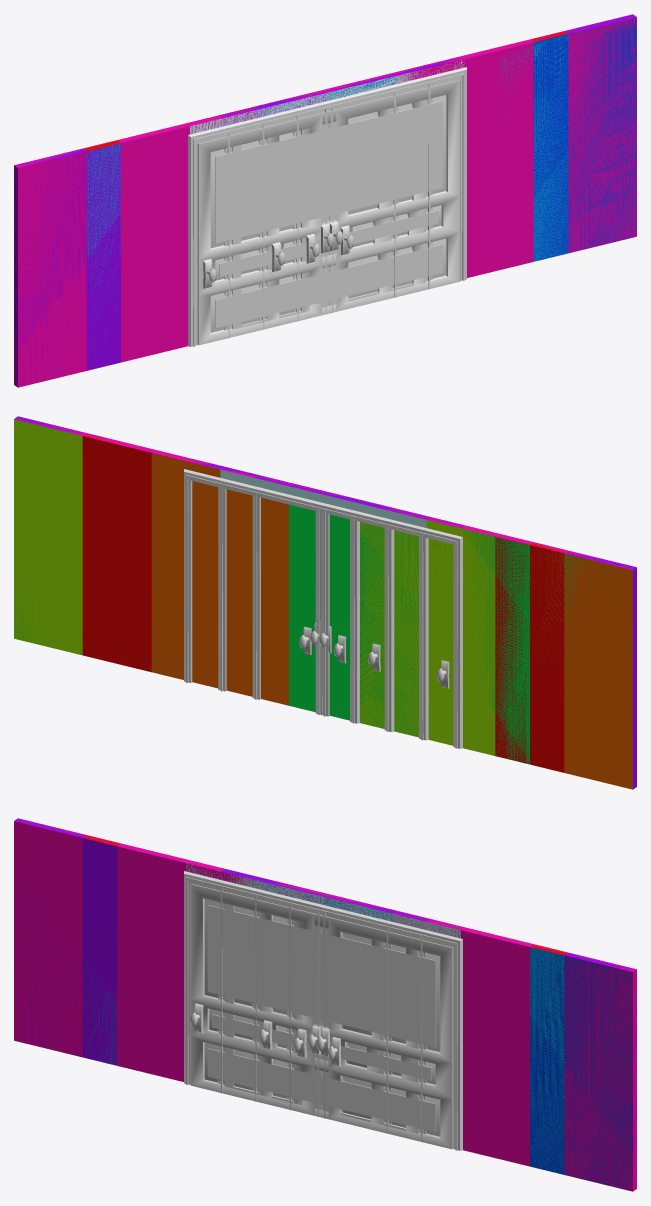
Rendered from murs_int.fbx.
The picture shows the model from 3 angles, top to bottom: view 1: azimuth 30°, elevation 25°; view 2: azimuth 150°, elevation 25°; view 3: azimuth 330°, elevation 25°; orthographic projection.
Parts seen in each view (by area): view 1: m9p0, m9p1, porte_2_4, porte_2_3, m6p1_9, m6p0_7, m6p0_6, porte_2_6, m6p1_6, porte, cadre_3, cadre_2 (+10 smaller); view 2: m6p1_9, m9p0, m6p1_8, m9p1, porte_1_2_2, cadre_3, cadre_7, cadre_8, cadre_6, m6p0_7, cadre_2, cadre (+1 smaller); view 3: m9p0, porte_2_4, porte_2_3, m9p1, m6p1_9, m6p0_7, m6p0_6, porte_2_6, m6p1_6, porte_2_7, cadre_3, cadre_4 (+10 smaller).
Boxes of the visible parts, bbox=[...] form: m9p0: bbox=[14, 15, 636, 387]; m9p1: bbox=[14, 18, 636, 386]; porte_2_4: bbox=[197, 114, 322, 345]; porte_2_3: bbox=[336, 80, 459, 311]; m6p1_9: bbox=[14, 14, 636, 386]; m6p0_7: bbox=[117, 39, 533, 362]; m6p0_6: bbox=[155, 51, 499, 353]; porte_2_6: bbox=[336, 80, 459, 311]; m6p1_6: bbox=[121, 43, 533, 361]; porte: bbox=[266, 108, 391, 318]; cadre_3: bbox=[188, 101, 329, 346]; cadre_2: bbox=[325, 67, 466, 313]; m6p1_9: bbox=[14, 416, 636, 789]; m9p0: bbox=[14, 419, 634, 737]; m6p1_8: bbox=[118, 529, 529, 764]; m9p1: bbox=[14, 417, 627, 736]; porte_1_2_2: bbox=[218, 480, 428, 740]; cadre_3: bbox=[321, 511, 462, 748]; cadre_7: bbox=[252, 492, 394, 732]; cadre_8: bbox=[218, 477, 359, 723]; cadre_6: bbox=[184, 469, 322, 715]; m6p0_7: bbox=[117, 441, 533, 692]; cadre_2: bbox=[187, 476, 320, 714]; cadre: bbox=[254, 492, 394, 731]; m9p0: bbox=[14, 819, 636, 1191]; porte_2_4: bbox=[190, 884, 314, 1115]; porte_2_3: bbox=[327, 918, 452, 1149]; m9p1: bbox=[14, 822, 636, 1191]; m6p1_9: bbox=[14, 818, 636, 1189]; m6p0_7: bbox=[117, 843, 533, 1166]; m6p0_6: bbox=[151, 855, 495, 1157]; porte_2_6: bbox=[328, 918, 453, 1148]; m6p1_6: bbox=[117, 843, 529, 1166]; porte_2_7: bbox=[259, 912, 384, 1125]; cadre_3: bbox=[184, 871, 321, 1117]; cadre_4: bbox=[321, 905, 462, 1150].
Bounding box in the file's own units: 354 × 121 × 18.39.
